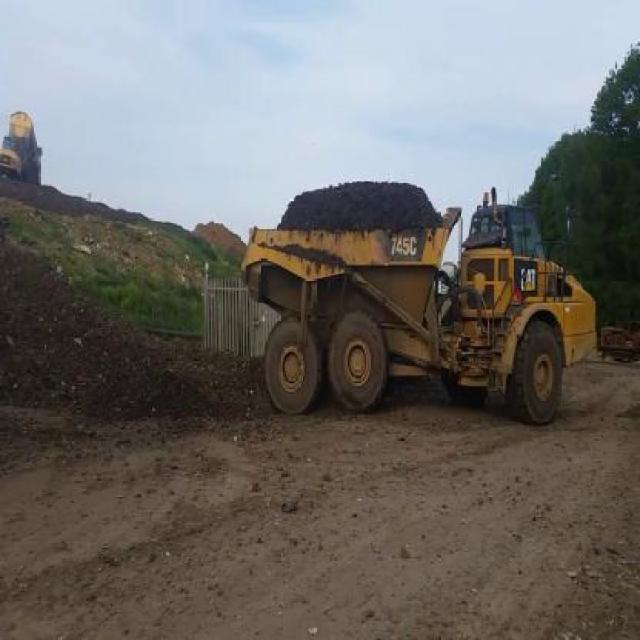dump_truck: (238, 177, 600, 429), (0, 104, 43, 184)
